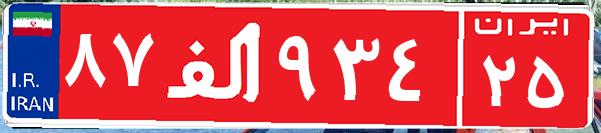2: (475, 38, 525, 113)
3: (330, 28, 385, 110)
4: (385, 28, 445, 110)
5: (525, 38, 570, 115)
7: (110, 28, 158, 105)
8: (57, 26, 110, 107)
9: (273, 28, 330, 110)
الف: (158, 15, 273, 115)
